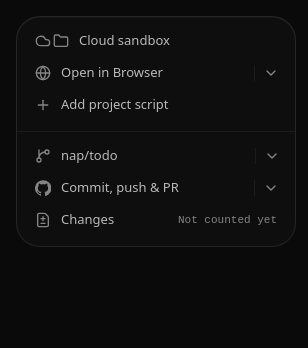
publication recovery › keeps the receipt until a terminal request's job refresh succeeds
Click the button "Commit, push & PR".
click(140, 188)  # box [25,172,254,204]
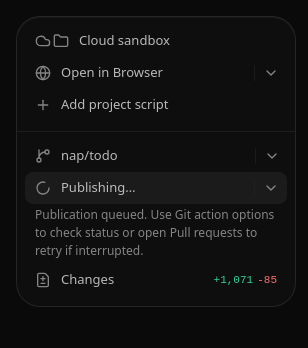
expect the message shows "Publication queued.": met, box [35,206,150,223]
Click the button named "Git action options".
click(271, 188)  # box [255,172,287,204]
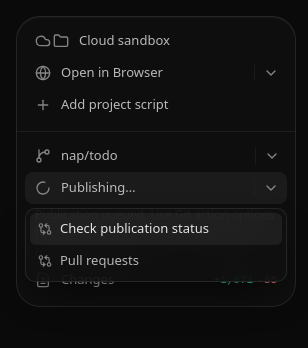
Click the menu item "Check publication status".
click(156, 229)  # box [30,213,282,245]
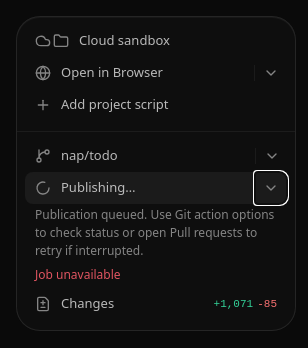
expect the button "Publishing…" is disabled: met, box [25,172,254,204]
expect the message "Job unavailable" is shown: met, box [35,266,121,283]
Click the button named "Git action options".
click(271, 188)  # box [255,172,287,204]
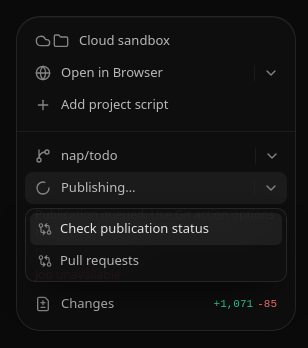
Click the menu item "Check publication status".
click(156, 229)  # box [30,213,282,245]
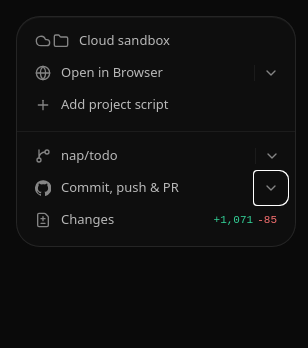
expect the button "Commit, push & PR" is enabled: met, box [25,172,254,204]
